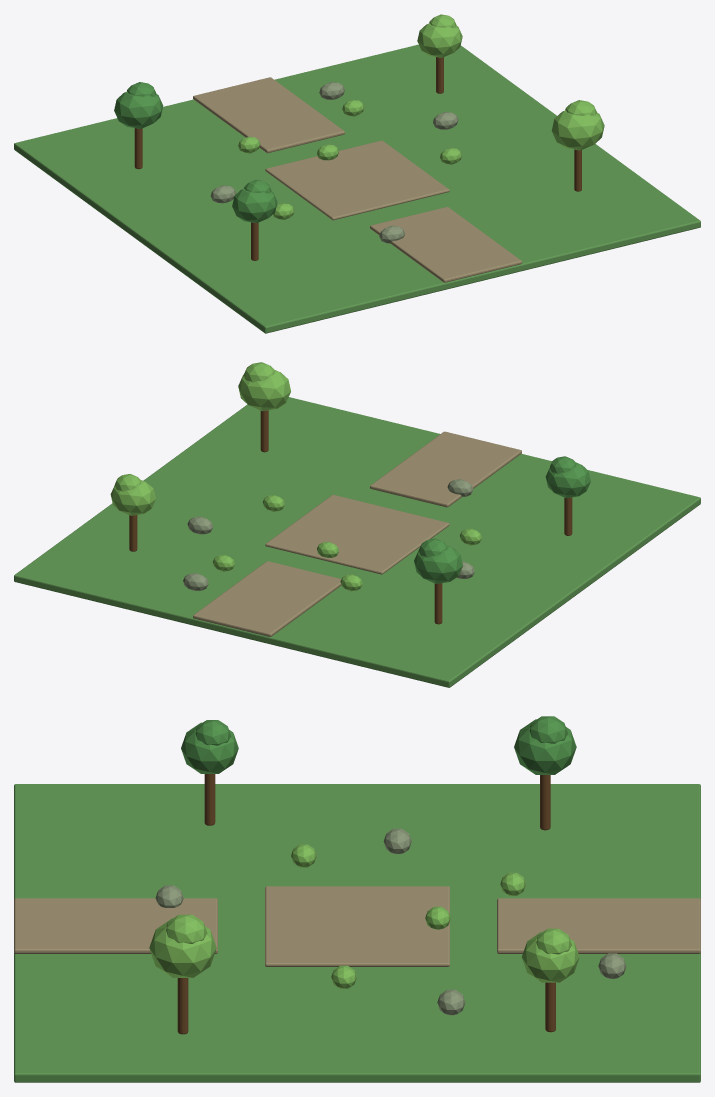
File: chunk_meadow_a.fbx
3 renders of one model, top to bottom at view 1: azimuth 30°, elevation 25°; view 2: azimuth 150°, elevation 25°; view 3: azimuth 270°, elevation 25°, orthographic. The views are drawn at different scales.
Visible parts, largest first — view 1: chunk_meadow_a; view 2: chunk_meadow_a; view 3: chunk_meadow_a.
Part boxes in pixels (box(x1,y1,x2,y2)): chunk_meadow_a: box(14, 14, 700, 333); chunk_meadow_a: box(14, 362, 700, 687); chunk_meadow_a: box(14, 716, 700, 1082).
Size of the model in its own units: 256 by 52.9 by 256.
